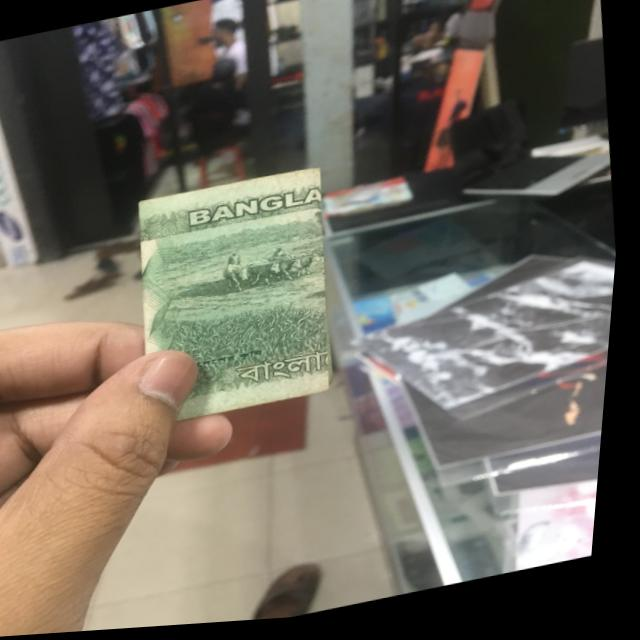Taka: (128, 166, 348, 426)
